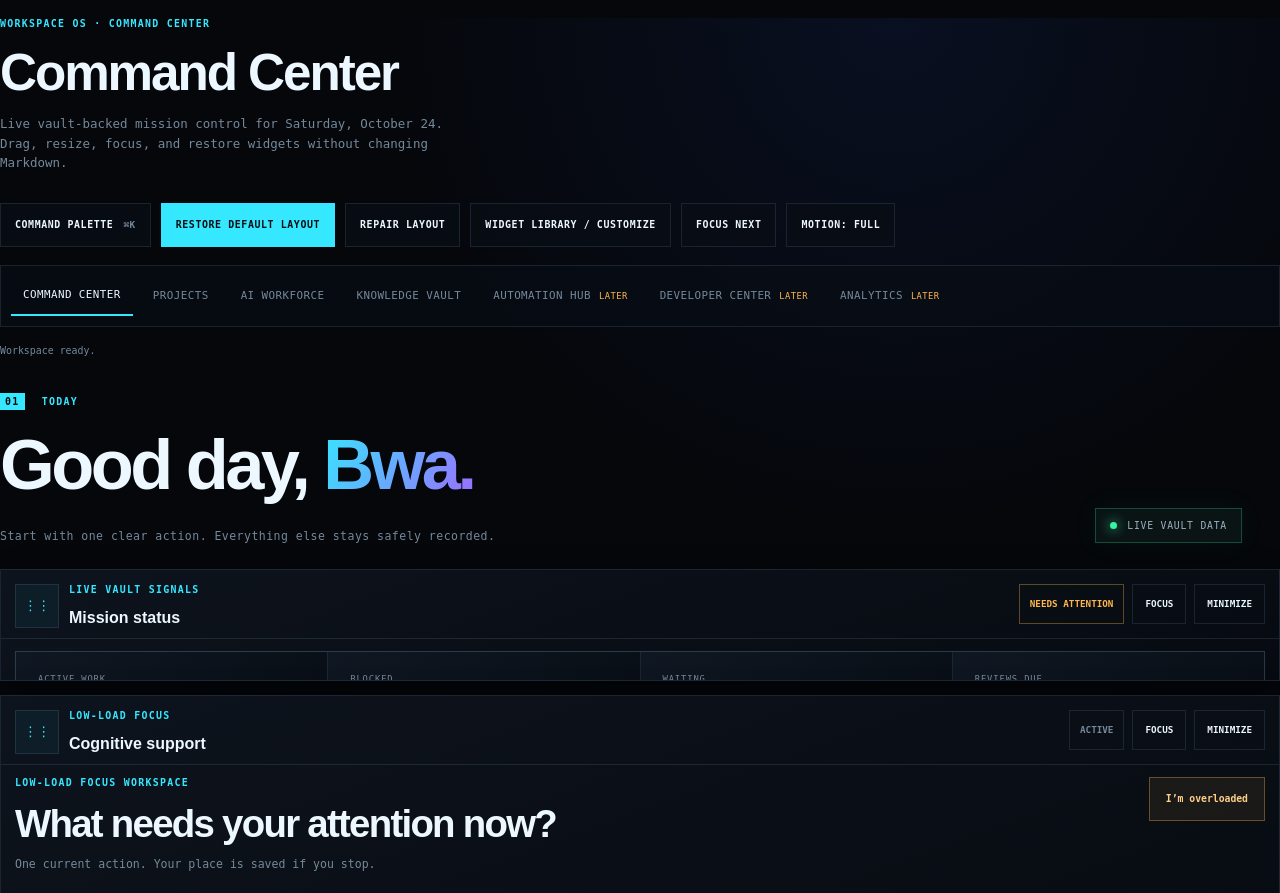
Test: Workspace OS Command Center › repairs a corrupted stored layout and lists what was fixed
This screenshot has width=1280, height=893.
Expected: the field labelled "Game loop" is not shown
Click the button "Repair layout" at (403, 225), box [345,203,460,247]
(page scrolled)
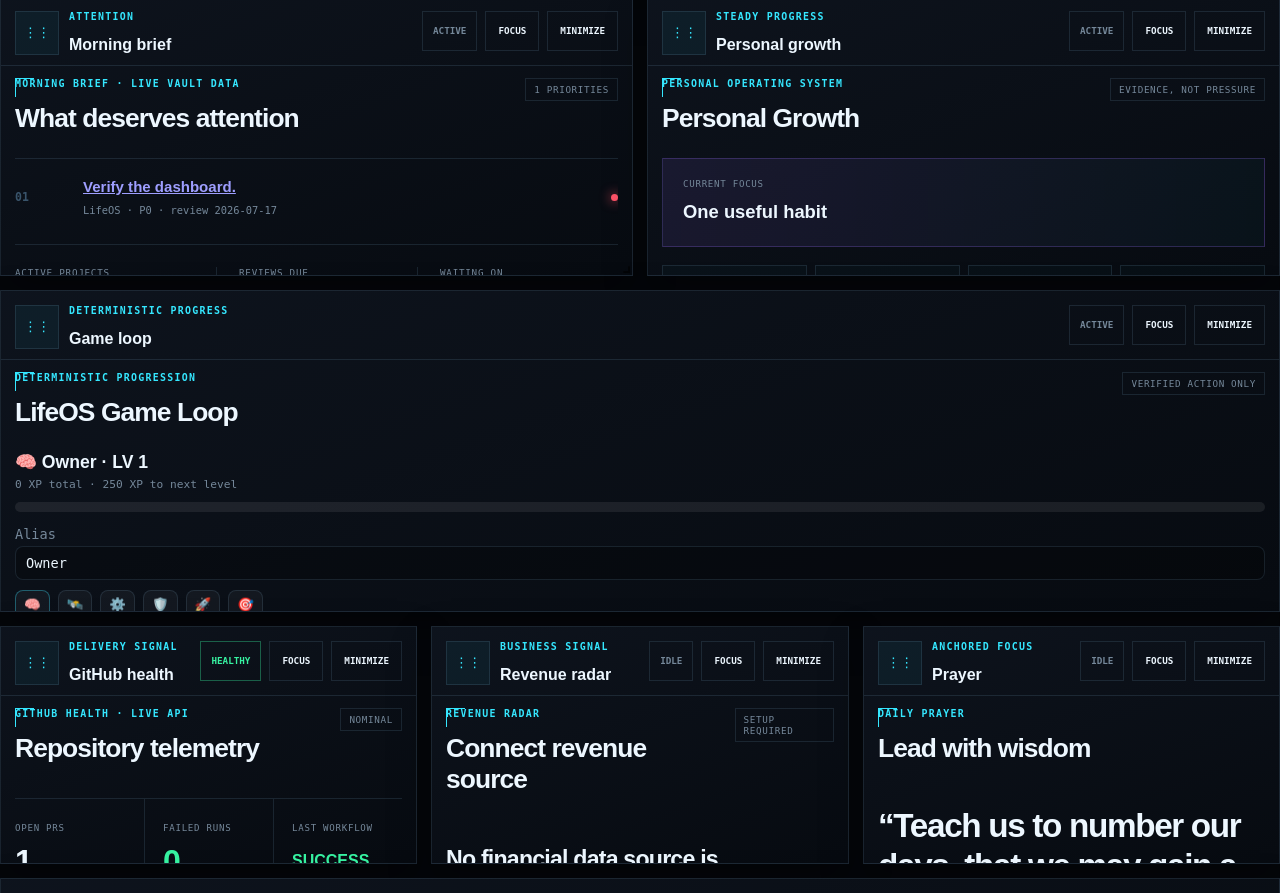
Expected: the element labelled "Game loop" is shown, [0,290,1279,612]
